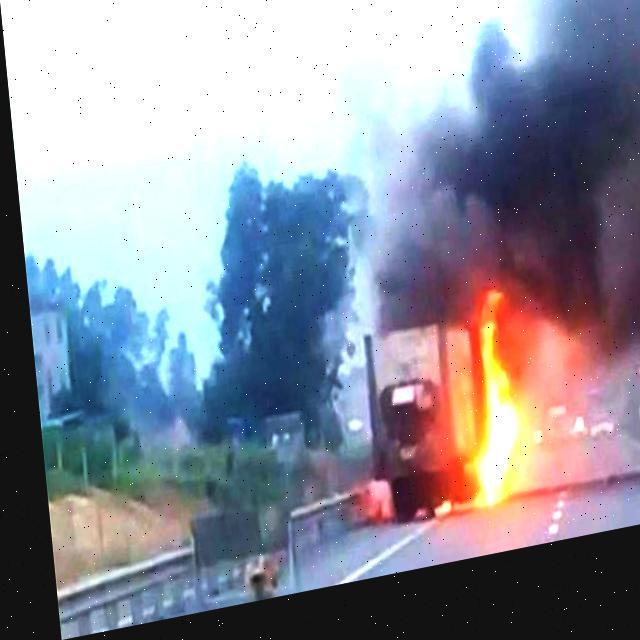Fire: (442, 342, 519, 528)
